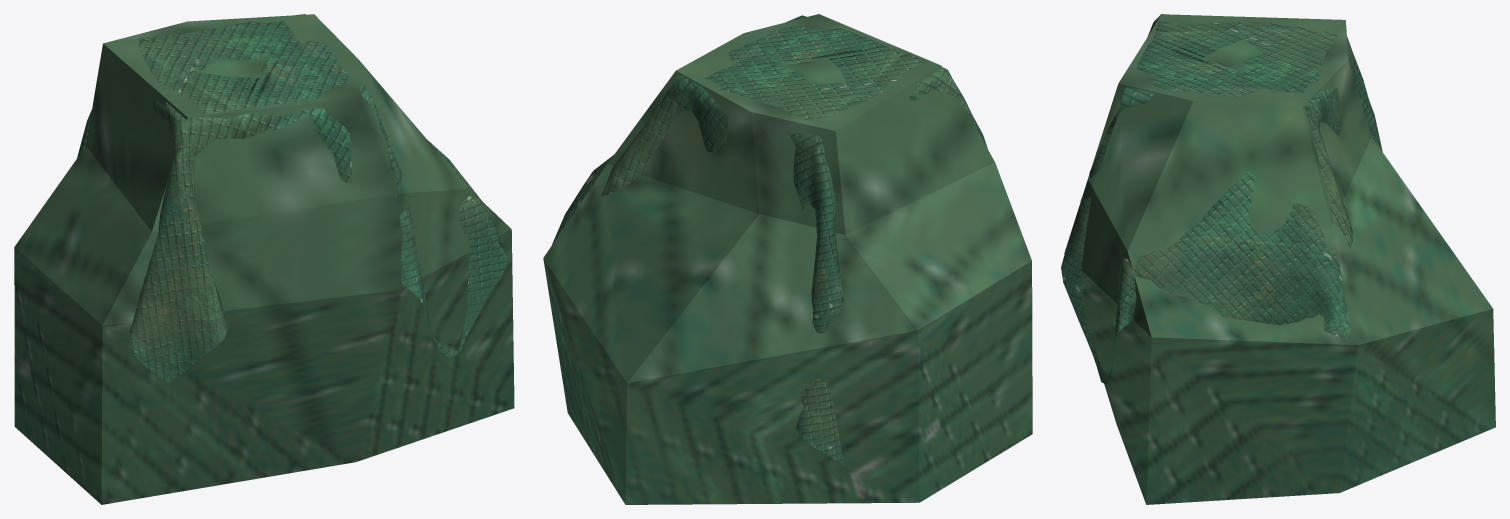
File: crate_stack01.fbx
3 views of the same model, side by side, from view 1: azimuth 30°, elevation 25°; view 2: azimuth 150°, elevation 25°; view 3: azimuth 270°, elevation 25° (orthographic). The views are drawn at different scales.
Parts seen in each view (by area): view 1: crate_stack01_COL, crate_stack01; view 2: crate_stack01_COL, crate_stack01; view 3: crate_stack01_COL, crate_stack01.
Boxes of the visible parts, <box> form: crate_stack01_COL: <box>14,14,514,504</box>; crate_stack01: <box>77,14,507,383</box>; crate_stack01_COL: <box>543,14,1032,504</box>; crate_stack01: <box>551,15,987,465</box>; crate_stack01_COL: <box>1064,14,1495,504</box>; crate_stack01: <box>1061,14,1382,384</box>.
Size of the model in its own units: 2.34 by 1.99 by 2.28.
